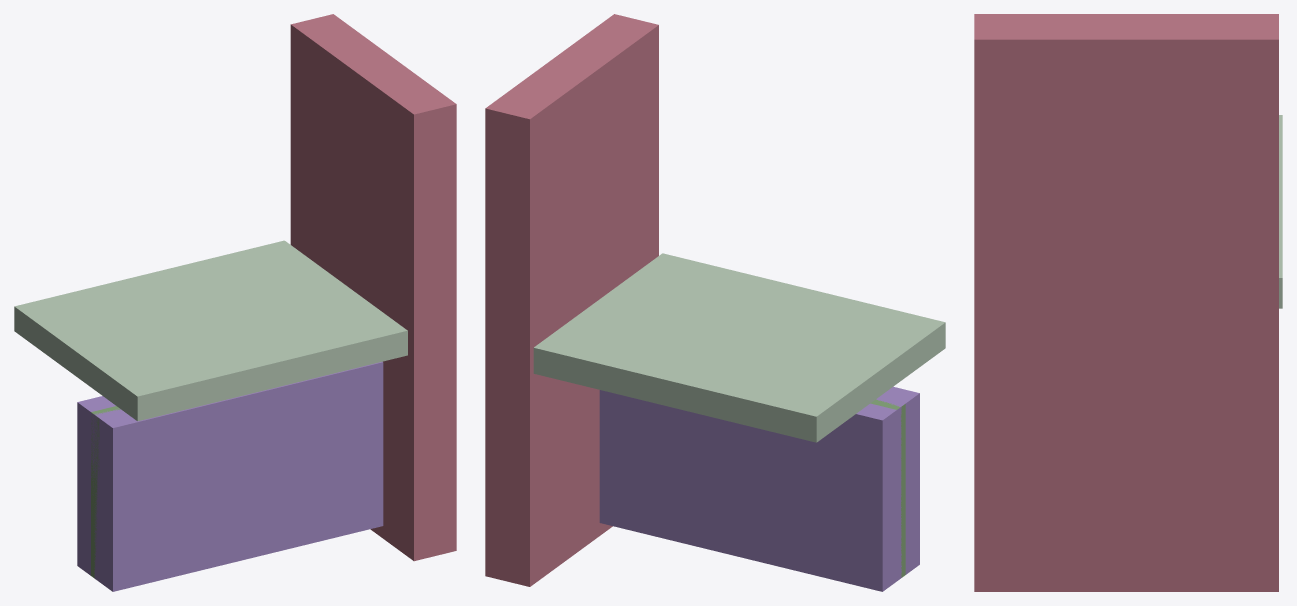
File: 199504_pred.glb
3 views of the same model, side by side, from view 1: azimuth 30°, elevation 25°; view 2: azimuth 150°, elevation 25°; view 3: azimuth 270°, elevation 25° (orthographic). The views are drawn at different scales.
Parts seen in each view (by area): view 1: world; view 2: world; view 3: world.
Boxes of the visible parts, x1=… form: world: x1=14, y1=14, x2=456, y2=591; world: x1=485, y1=14, x2=945, y2=591; world: x1=974, y1=14, x2=1282, y2=591.
Bounding box in the file's own units: 6.7 × 9 × 4.55.
